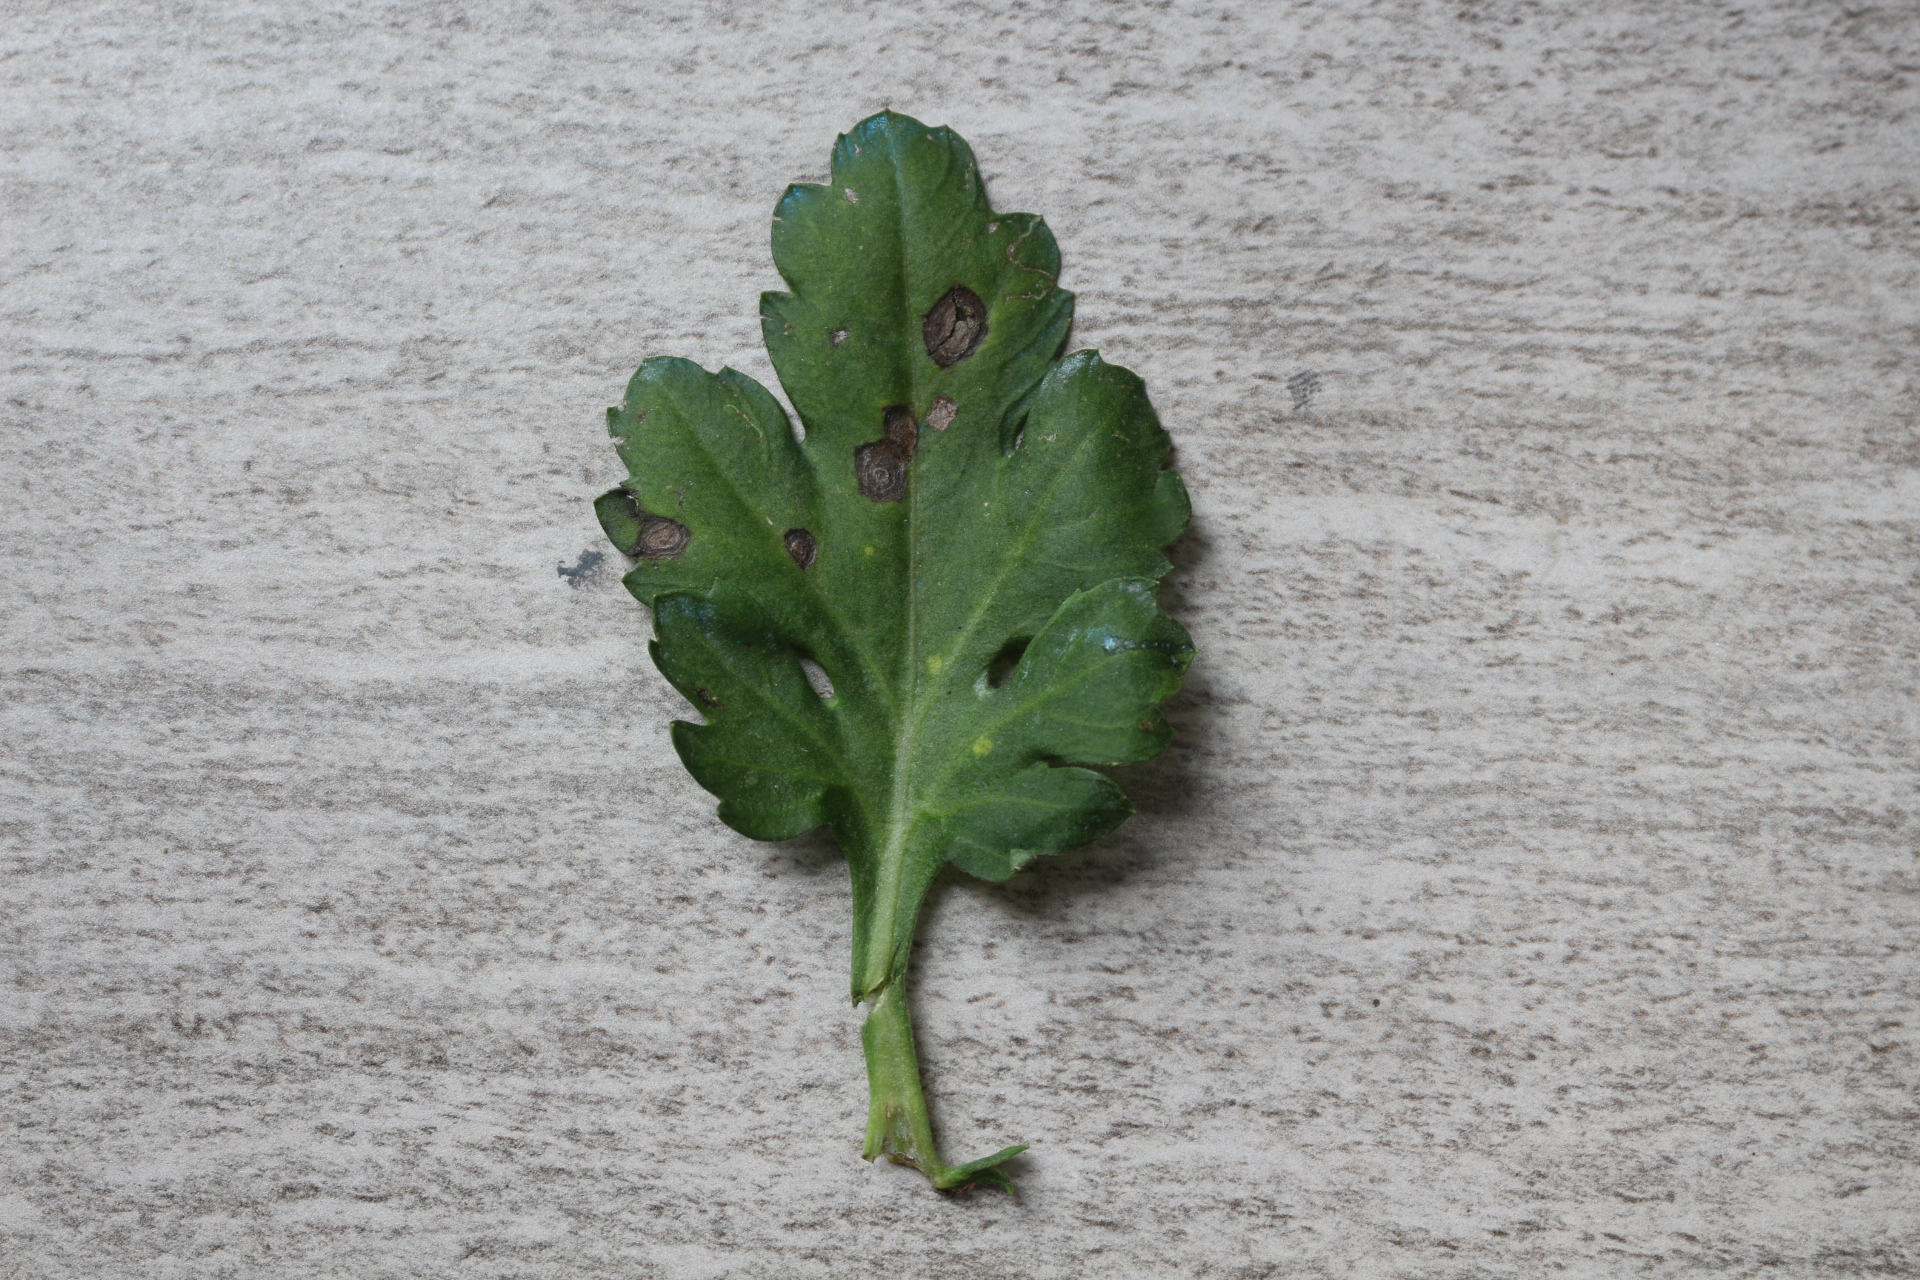namden: (856, 409, 921, 499), (919, 286, 991, 366), (629, 511, 694, 567), (779, 523, 826, 573), (916, 390, 967, 429)
namsung: (919, 644, 951, 683), (970, 731, 994, 763)
